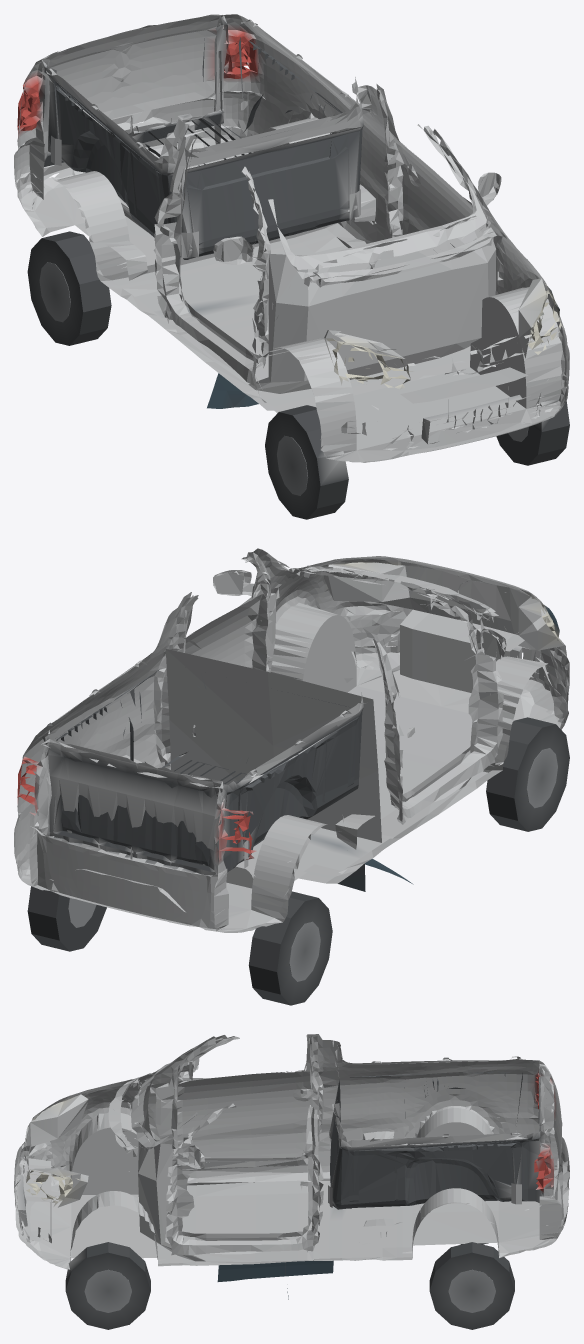
Rendered from vw-game.glb.
3 views of the same model, one above another, from view 1: azimuth 30°, elevation 25°; view 2: azimuth 150°, elevation 25°; view 3: azimuth 270°, elevation 25° (orthographic). The views are drawn at different scales.
Visible parts, largest first — view 1: world; view 2: world; view 3: world.
Part boxes in pixels (bbox=[...]): world: bbox=[14, 14, 569, 519]; world: bbox=[14, 548, 569, 1005]; world: bbox=[14, 1034, 569, 1329].
Size of the model in its own units: 2.03 by 1.9 by 4.43.
